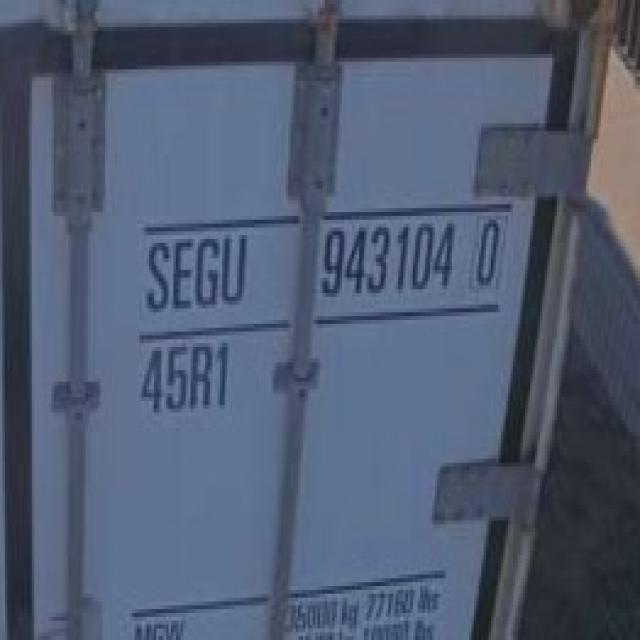dv: (472, 214, 503, 292)
owner: (137, 232, 255, 318)
serial: (321, 219, 458, 303)
size: (132, 337, 236, 423)
